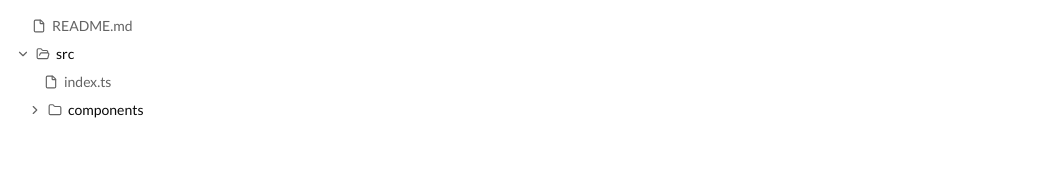
Scenario: FileTree › opens a nested folder on click
The image size is (1048, 172).
Click the button "components" at (106,110), box top-left (12, 96), bottom-right (1036, 124)
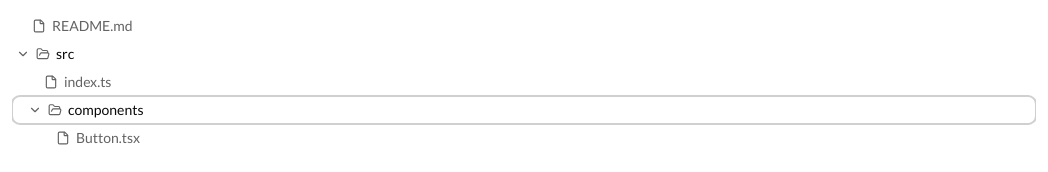
Expected: the text "Button.tsx" is shown, top-left (76, 128), bottom-right (140, 148)
